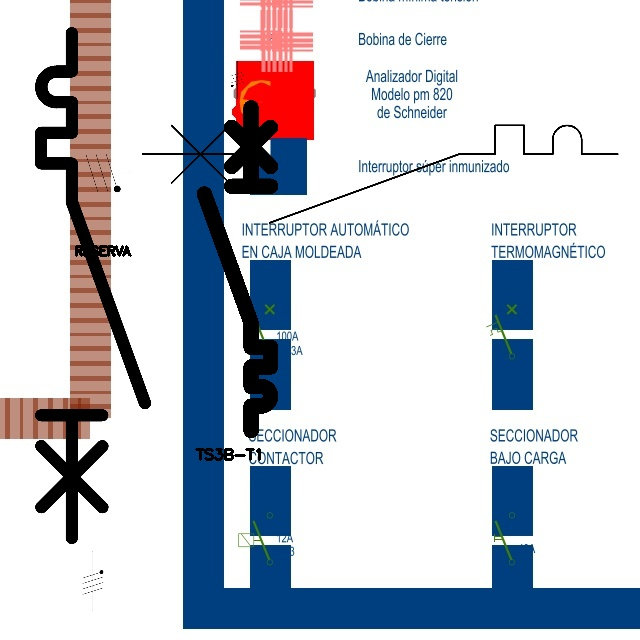interruptor_termomagnetico: (28, 20, 158, 551), (130, 113, 629, 235), (196, 99, 279, 439)
